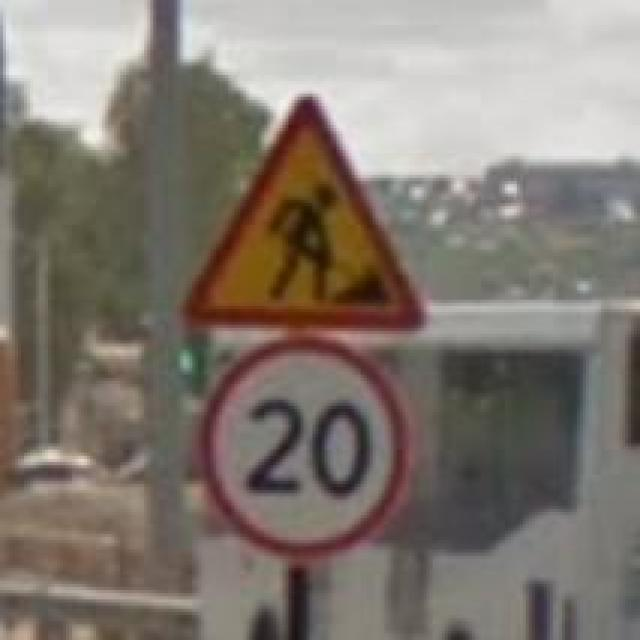forb_speed_over_20: (195, 334, 418, 562)
